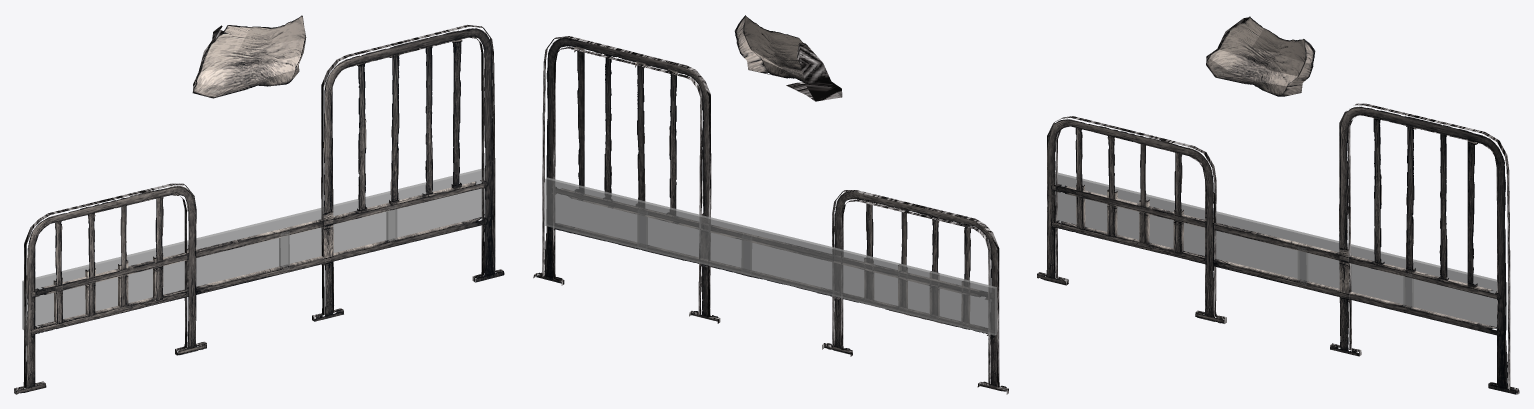
File: bed.fbx
3 views of the same model, side by side, from view 1: azimuth 30°, elevation 25°; view 2: azimuth 150°, elevation 25°; view 3: azimuth 330°, elevation 25° (orthographic). The views are drawn at different scales.
Visible parts, largest first — view 1: bedFrame, madrass, pillow; view 2: bedFrame, madrass, pillow; view 3: bedFrame, madrass, pillow, pCube20.
Part boxes in pixels (x1,y1,x2,y2): bedFrame: [14, 25, 504, 394]; madrass: [22, 168, 485, 329]; pillow: [192, 15, 306, 98]; bedFrame: [533, 36, 1008, 394]; madrass: [545, 177, 996, 335]; pillow: [734, 15, 842, 101]; bedFrame: [1037, 103, 1519, 394]; madrass: [1055, 172, 1507, 330]; pillow: [1206, 16, 1315, 96]; pCube20: [1297, 246, 1308, 285].
Bounding box in the file's own units: 10.54 × 6.56 × 0.8846.
